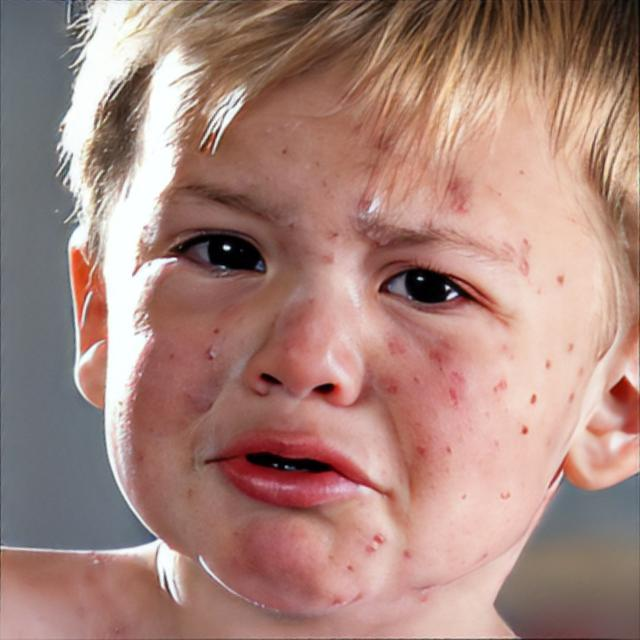sad: (100, 34, 618, 622)
